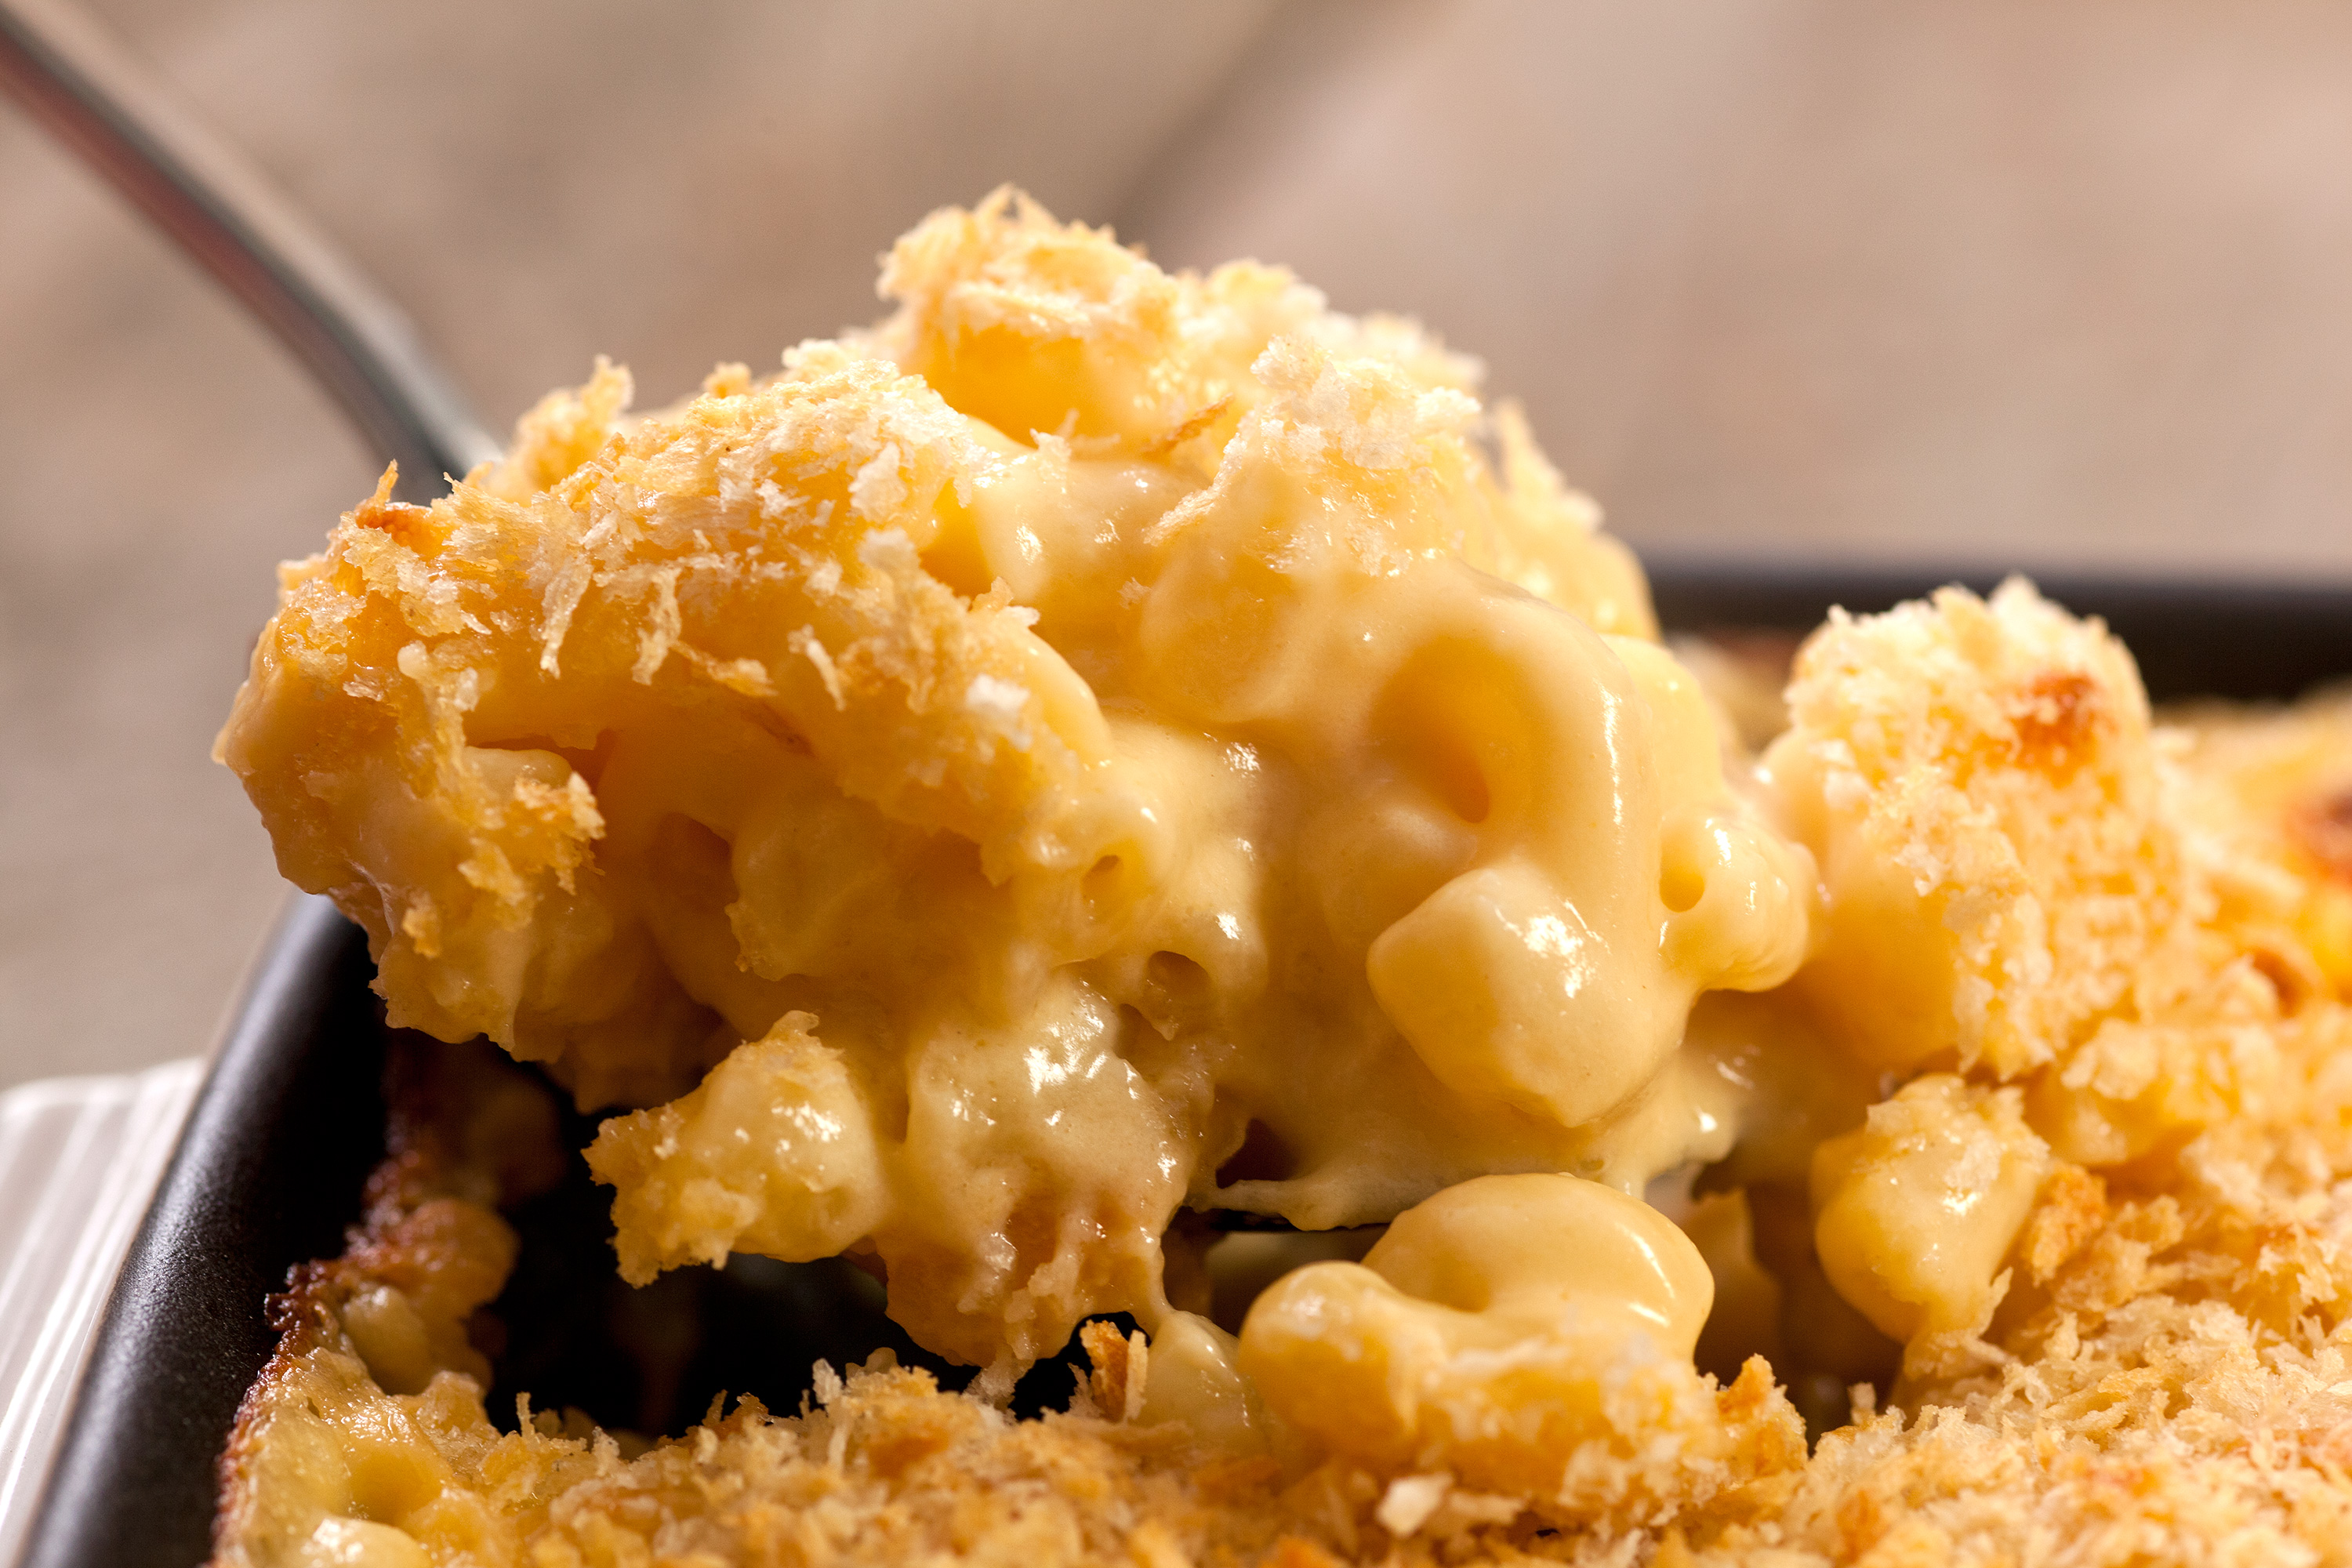macncheese: (259, 271, 2074, 1396)
